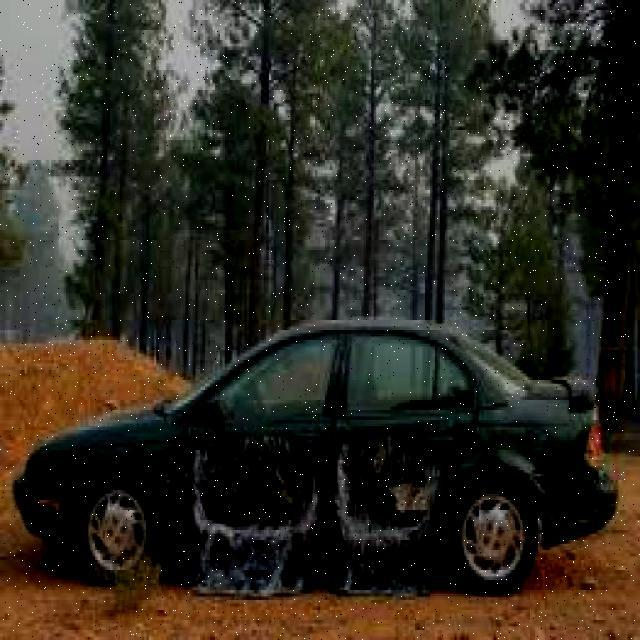car damage: (186, 423, 471, 592)
